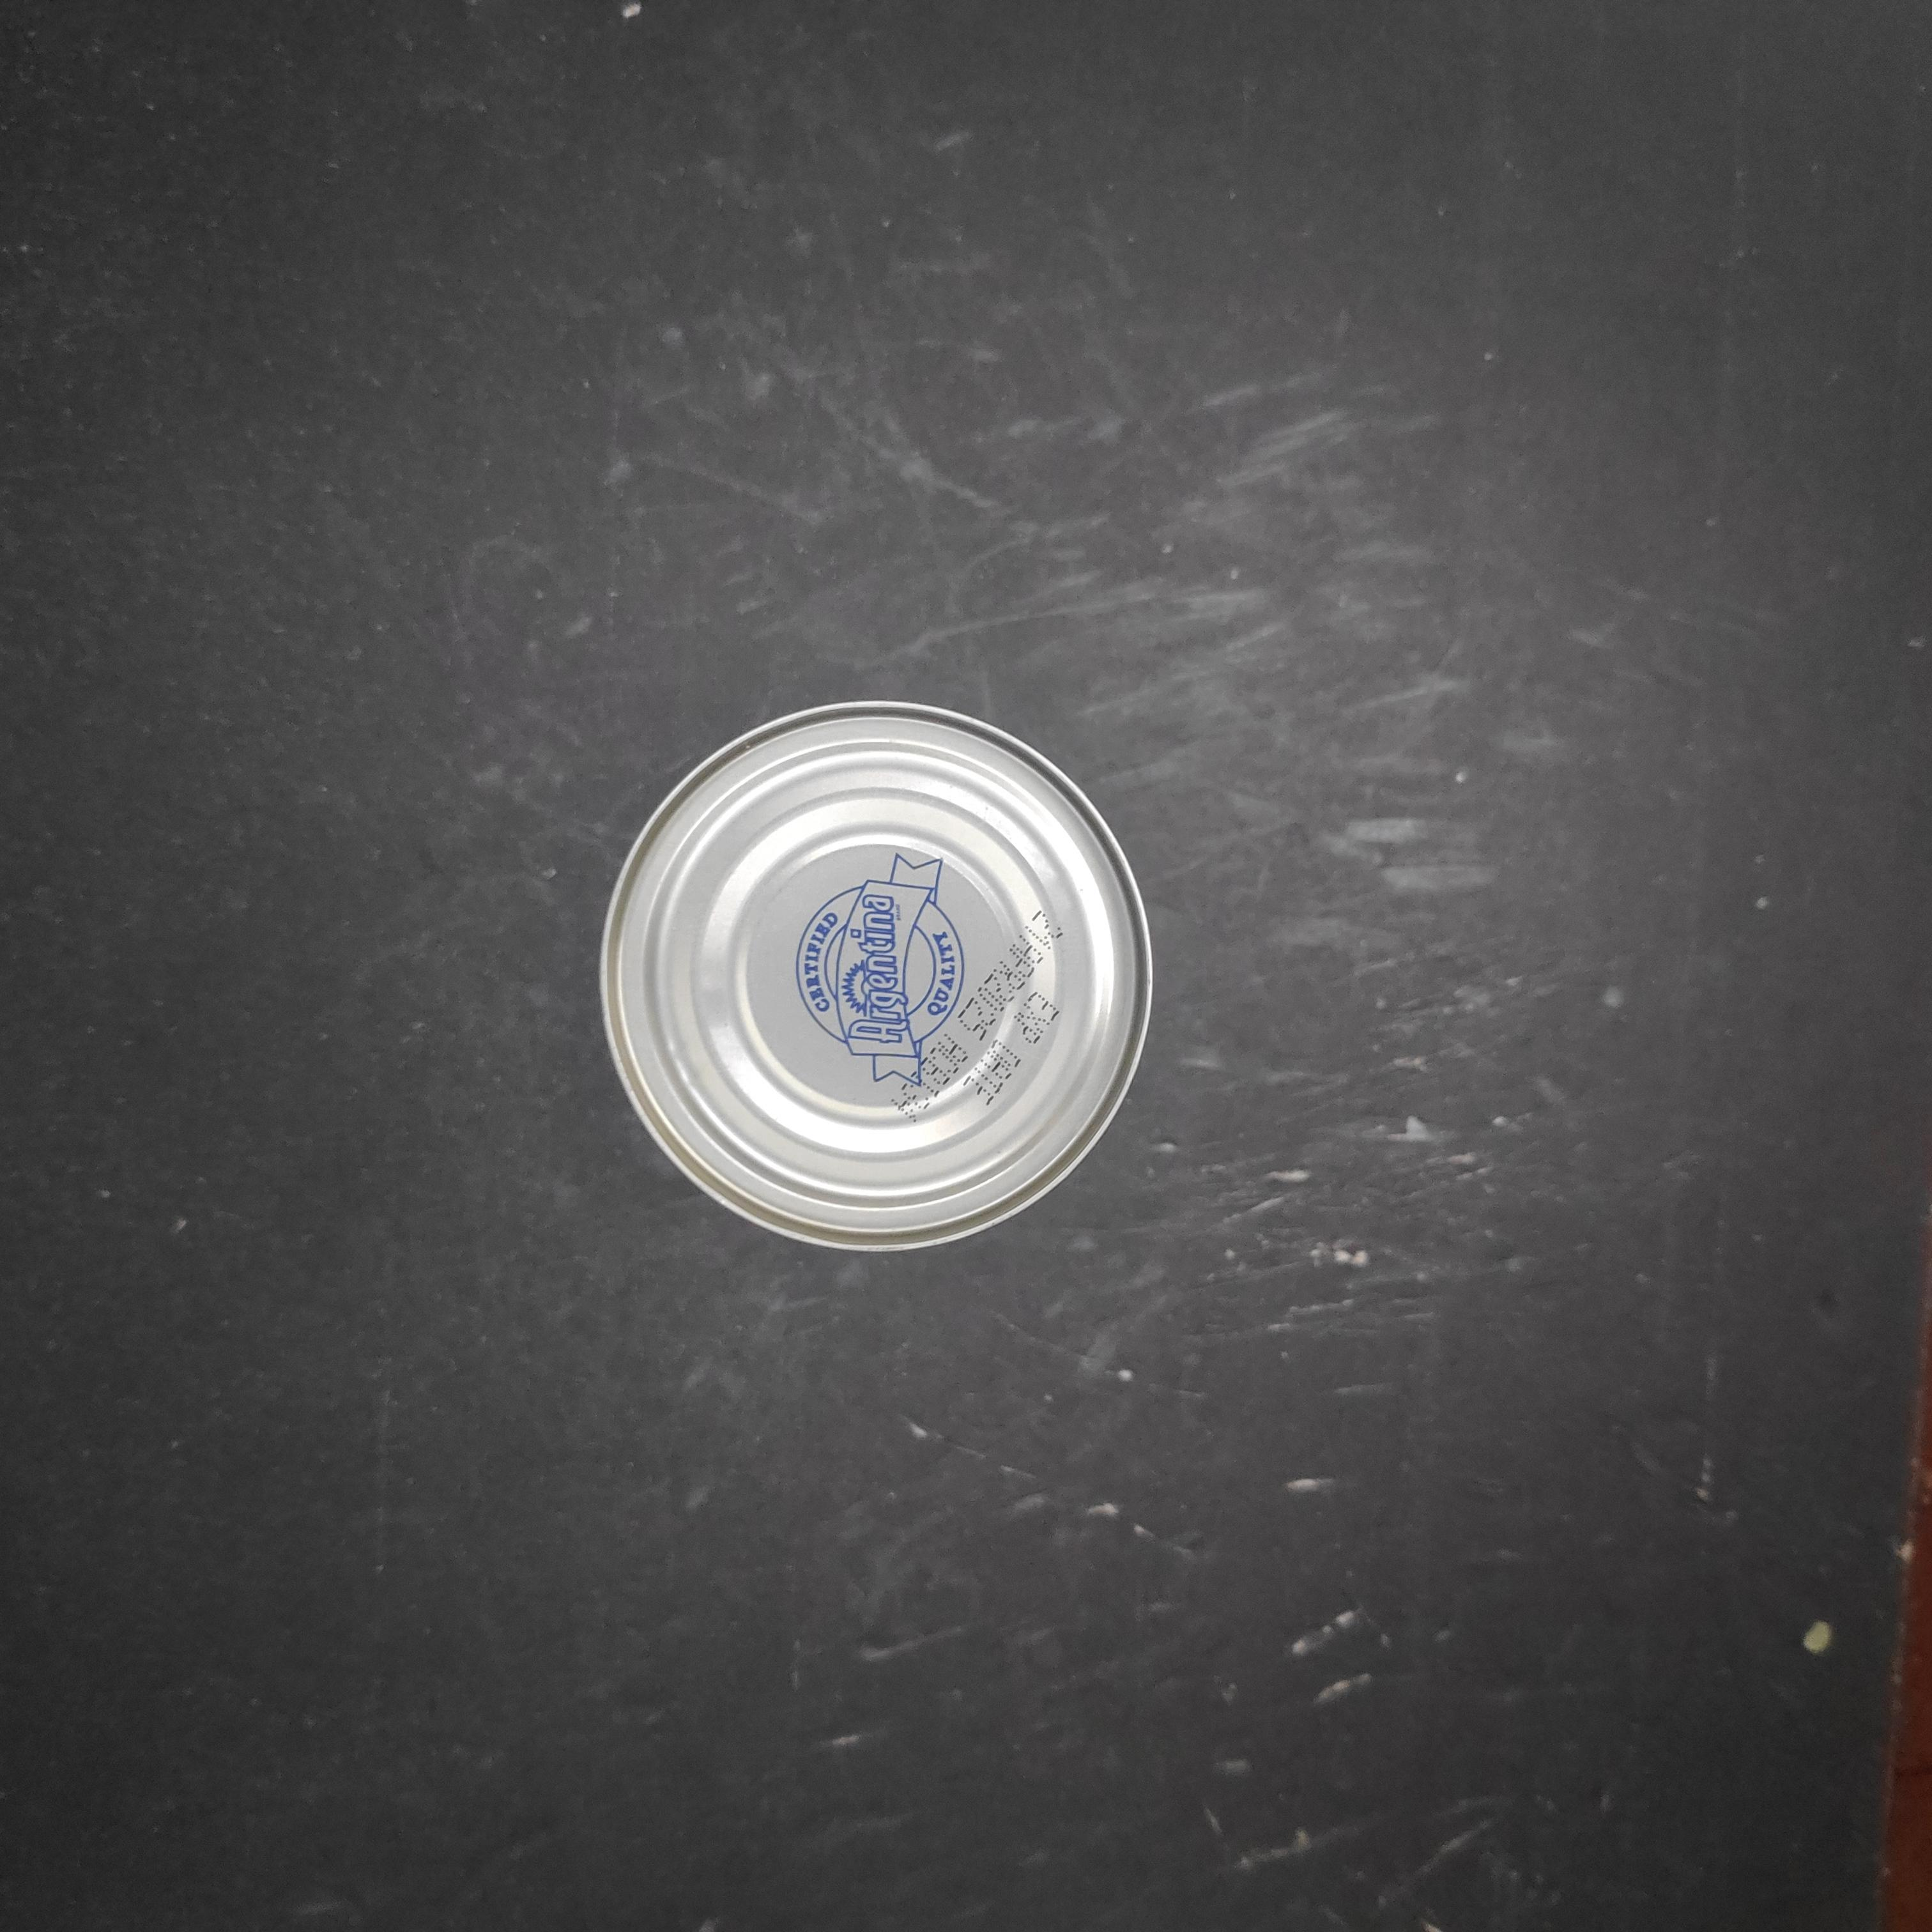No defect: (662, 589, 1247, 1168)
